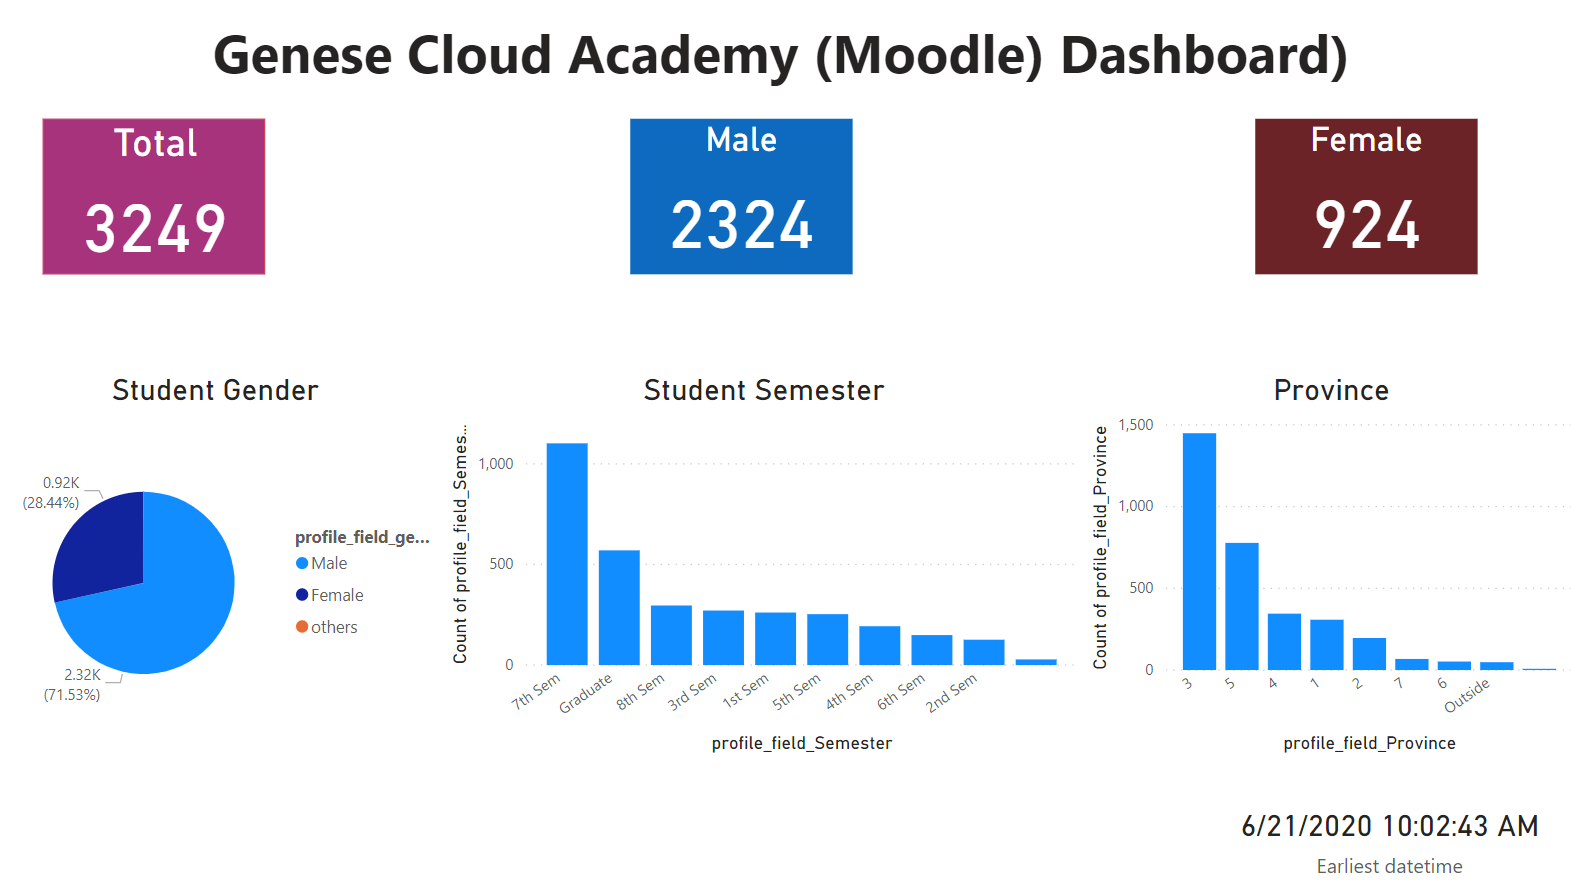

The page's visual inventory and layout, read from the dashboard file:
{"tool":"powerbi","page":{"name":"Dashboard","canvas":[1280,720],"ordinal":0},"visuals":[{"type":"pieChart","title":"Student Gender","fields":{"Category":["user_latest.profile_field_gender1"],"Series":["user_latest.profile_field_gender1"],"Y":["CountNonNull(user_latest.profile_field_gender)"]},"box":[2.1,303.2,367.2,310.5],"z":0},{"type":"columnChart","title":"Student Semester","fields":{"Category":["user_latest.profile_field_Semester1"],"Y":["CountNonNull(user_latest.profile_field_Semester)1"]},"box":[369.4,303.2,513.4,310.5],"z":1000},{"type":"columnChart","title":"Province","fields":{"Category":["user_latest.profile_field_Province1"],"Y":["CountNonNull(user_latest.profile_field_Province)1"]},"box":[882.3,302.7,397.4,310.5],"z":2000},{"type":"card","title":"Total","fields":{"Values":["CountNonNull(user_latest.id)"]},"box":[47.1,98.8,178.8,124.4],"z":3000},{"type":"card","title":"Male","fields":{"Values":["CountNonNull(user_latest.profile_field_gender)"]},"box":[518.2,98.8,178.8,124.4],"z":4000},{"type":"card","title":"Female","fields":{"Values":["CountNonNull(user_latest.profile_field_gender)"]},"box":[1019.5,98.8,178.8,124.4],"z":5000},{"type":"textbox","box":[0,10.9,1279.3,72.5],"z":6000},{"type":"card","fields":{"Values":["Min(Kathmandu.datetime)"]},"box":[994.2,641.5,268.2,68.9],"z":7000}]}

Visuals, with their boxes in screenshot pixels (x1, y1, x2, y2), scaled from the page's 1280x720 canvas onto the 1571x887 screenshot:
"Student Gender" pieChart: 3 374 453 756
"Student Semester" columnChart: 453 374 1083 756
"Province" columnChart: 1083 373 1570 755
"Total" card: 58 122 277 275
"Male" card: 636 122 855 275
"Female" card: 1251 122 1471 275
textbox: 0 13 1570 103
card - Min(Kathmandu.datetime): 1220 790 1549 875
